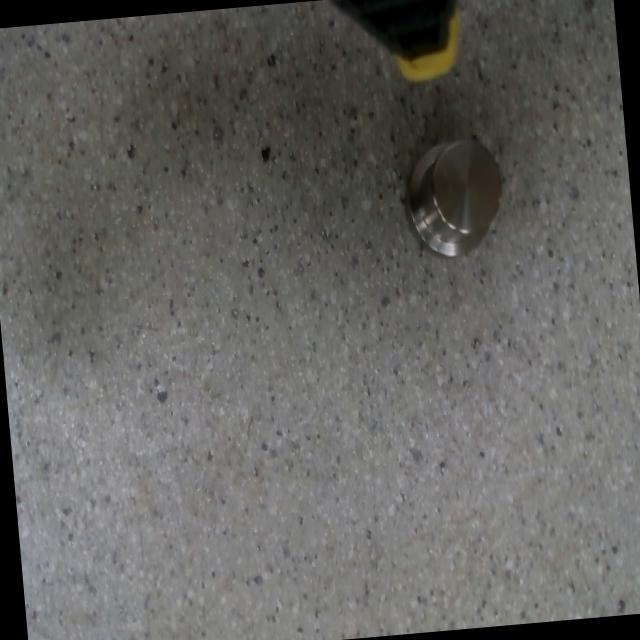sensor: (396, 133, 508, 264)
